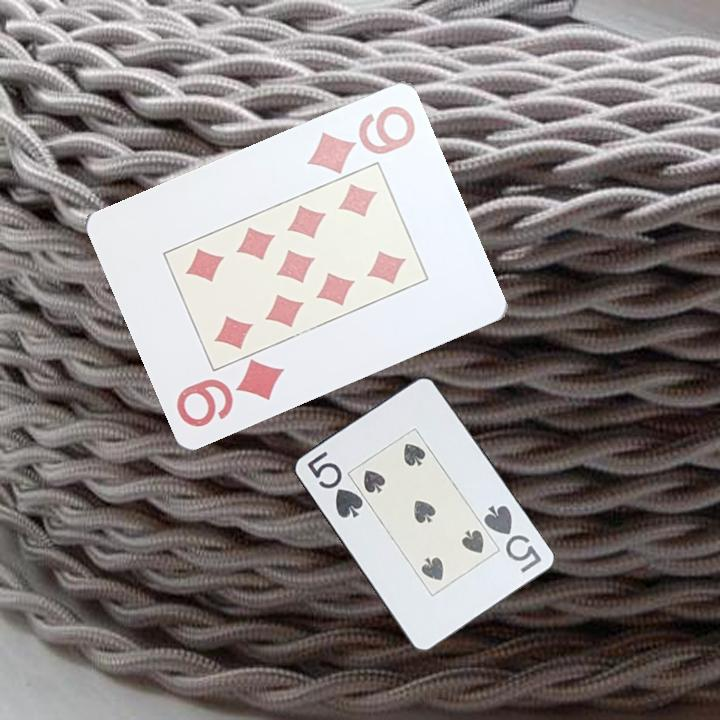5s: (479, 502, 544, 576), (303, 447, 366, 521)
9d: (172, 355, 288, 430), (304, 101, 419, 176)
